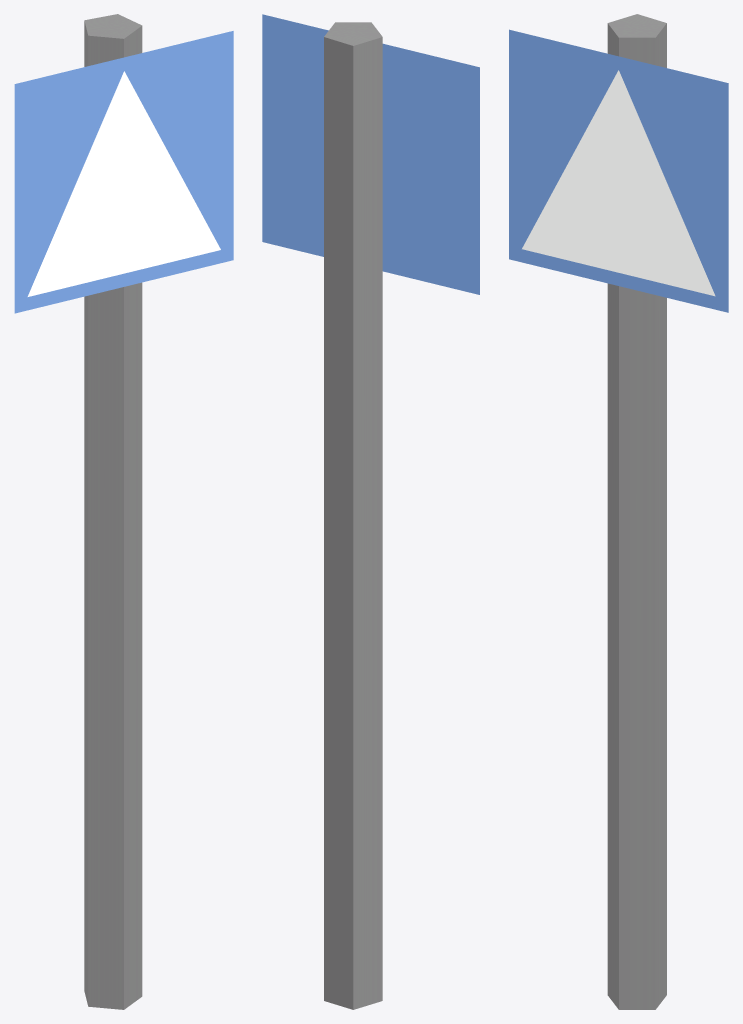
The model's file is stolb.009.glb.
The picture shows the model from 3 angles, left to right: view 1: azimuth 30°, elevation 25°; view 2: azimuth 150°, elevation 25°; view 3: azimuth 330°, elevation 25°; orthographic projection.
Parts seen in each view (by area): view 1: stolb.009(Clone); view 2: stolb.009(Clone); view 3: stolb.009(Clone).
Boxes of the visible parts, x1,y1,x2,y2 form: stolb.009(Clone): (14, 14, 233, 1009); stolb.009(Clone): (262, 14, 479, 1009); stolb.009(Clone): (509, 14, 728, 1009).
Bounding box in the file's own units: 0.5844 × 2.47 × 0.1349.
1 material, 1 textured.
